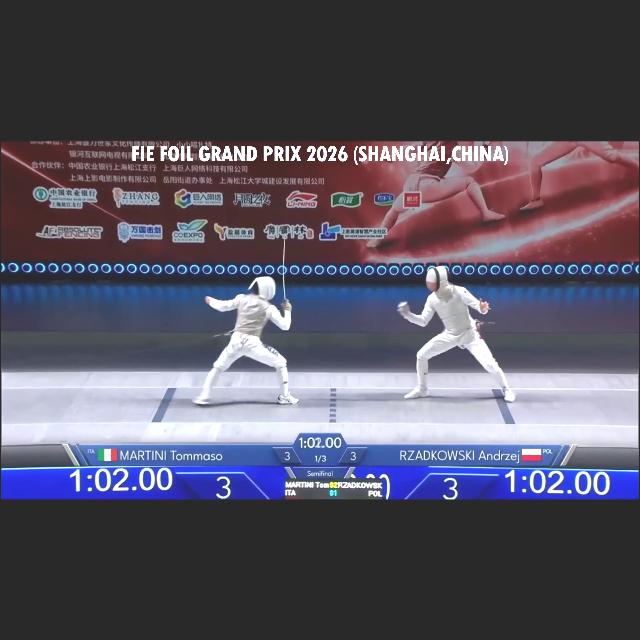blade: (278, 230, 296, 312)
